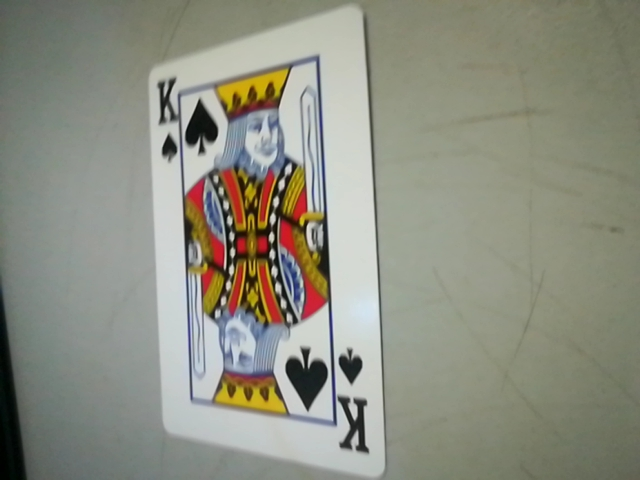ht k: (325, 335, 381, 472)
